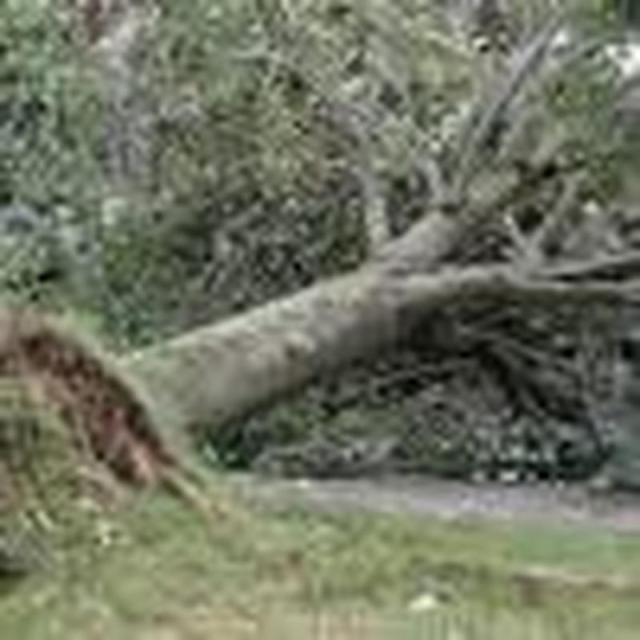tree_fallen: (17, 19, 604, 566)
